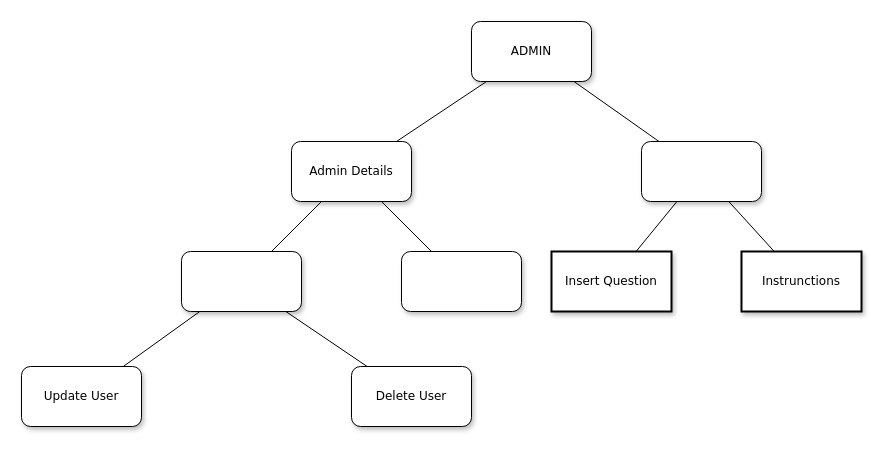
The diagram is 886 pixels wide and 451 high, and some of its shapes have lost their labels. The shapes that lost their labels are listed below. From the top down, each one's centre as x and y in pixels, then its label:
[702,172]: Quiz Details
[242,282]: Insert New User
[462,282]: View User
